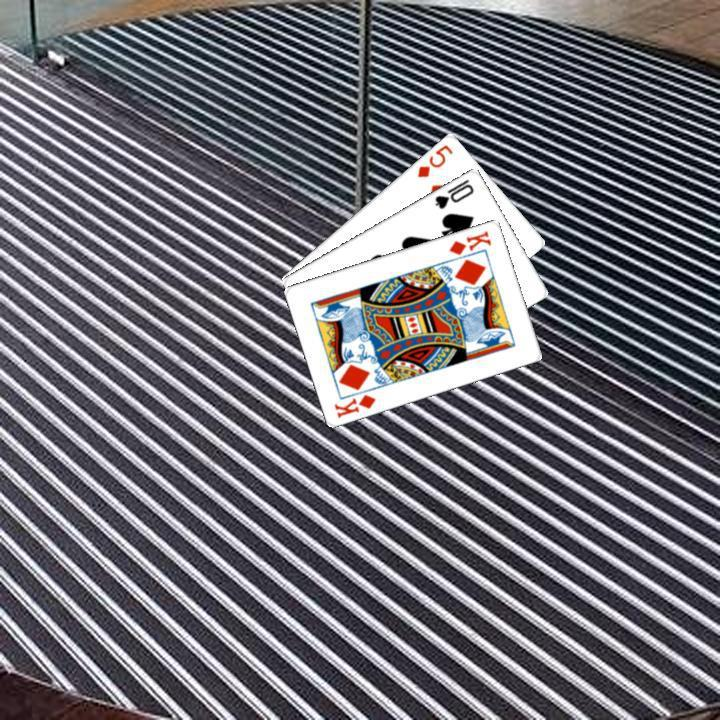10: (430, 174, 476, 211)
5: (413, 140, 455, 179)
K: (444, 226, 493, 257), (330, 389, 378, 420)
